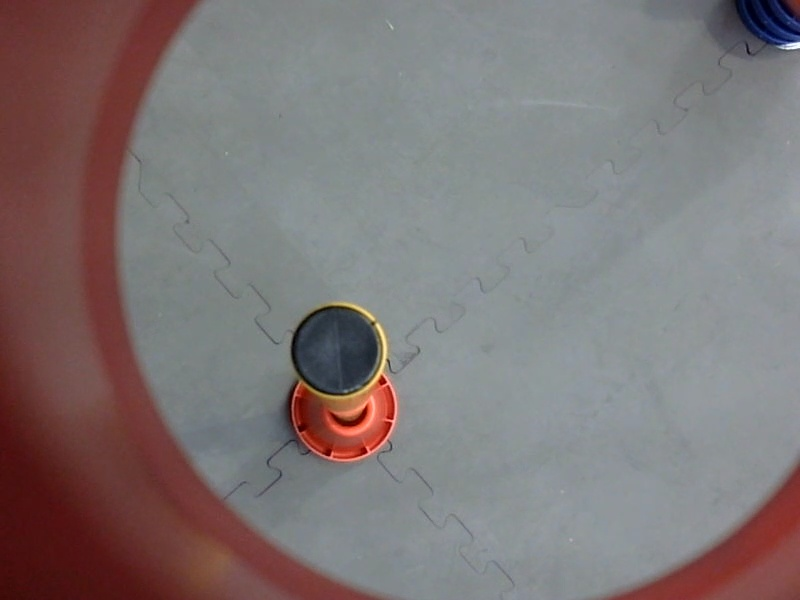tip: (285, 294, 390, 406)
